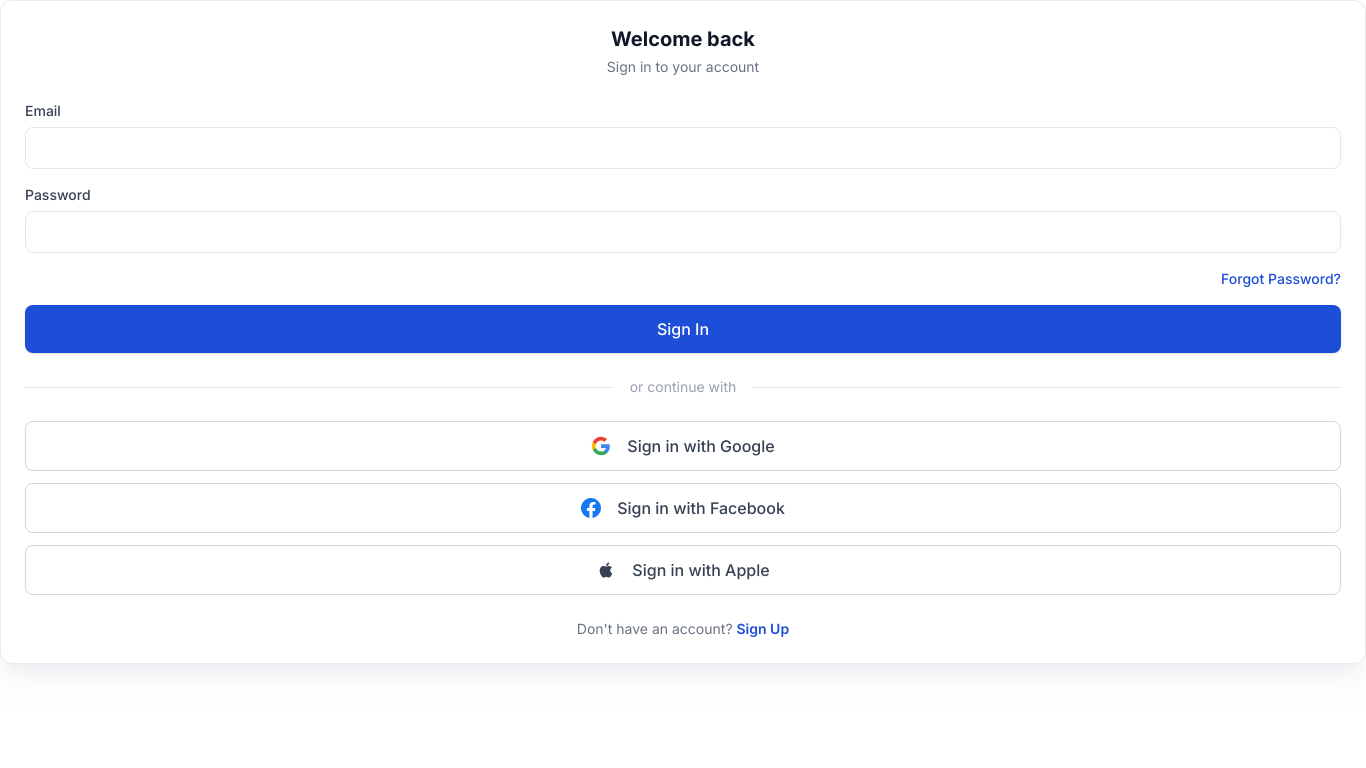
Scenario: LoginPage › shows generic error on failed sign in
In the field labelled "Email": (683, 148) [25,127,1341,169], type "test@example.com"
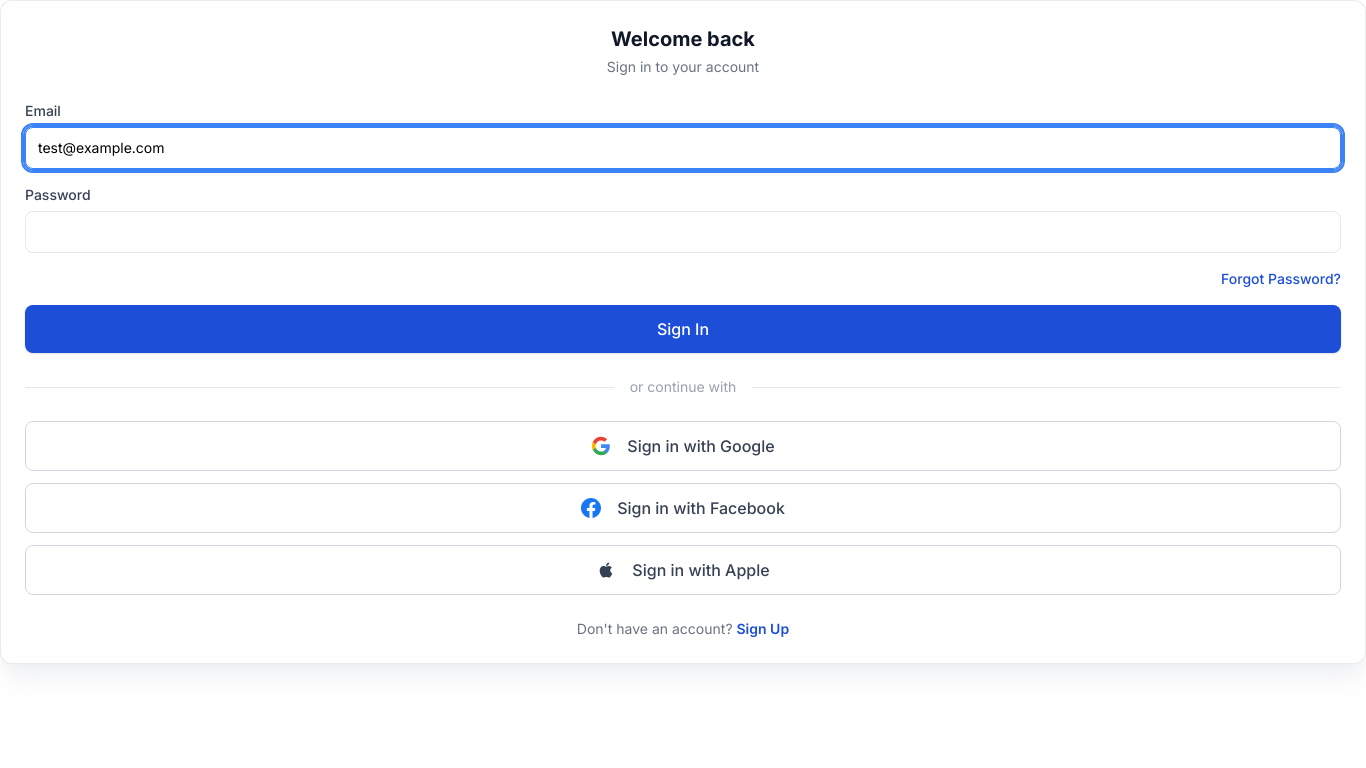
In the password field labelled "Password": (683, 232) [25,211,1341,253], type "wrong"
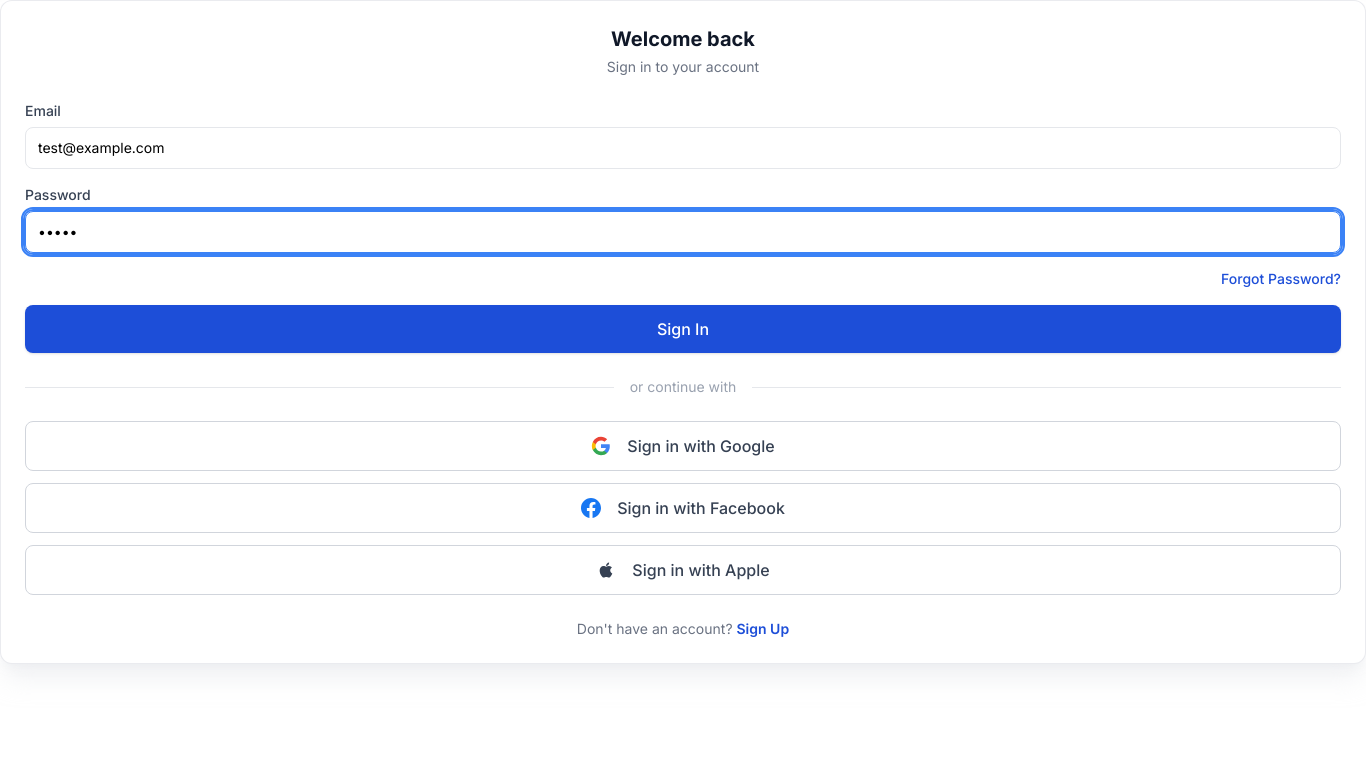
Click the button "Sign In": (683, 329) [25,305,1341,353]
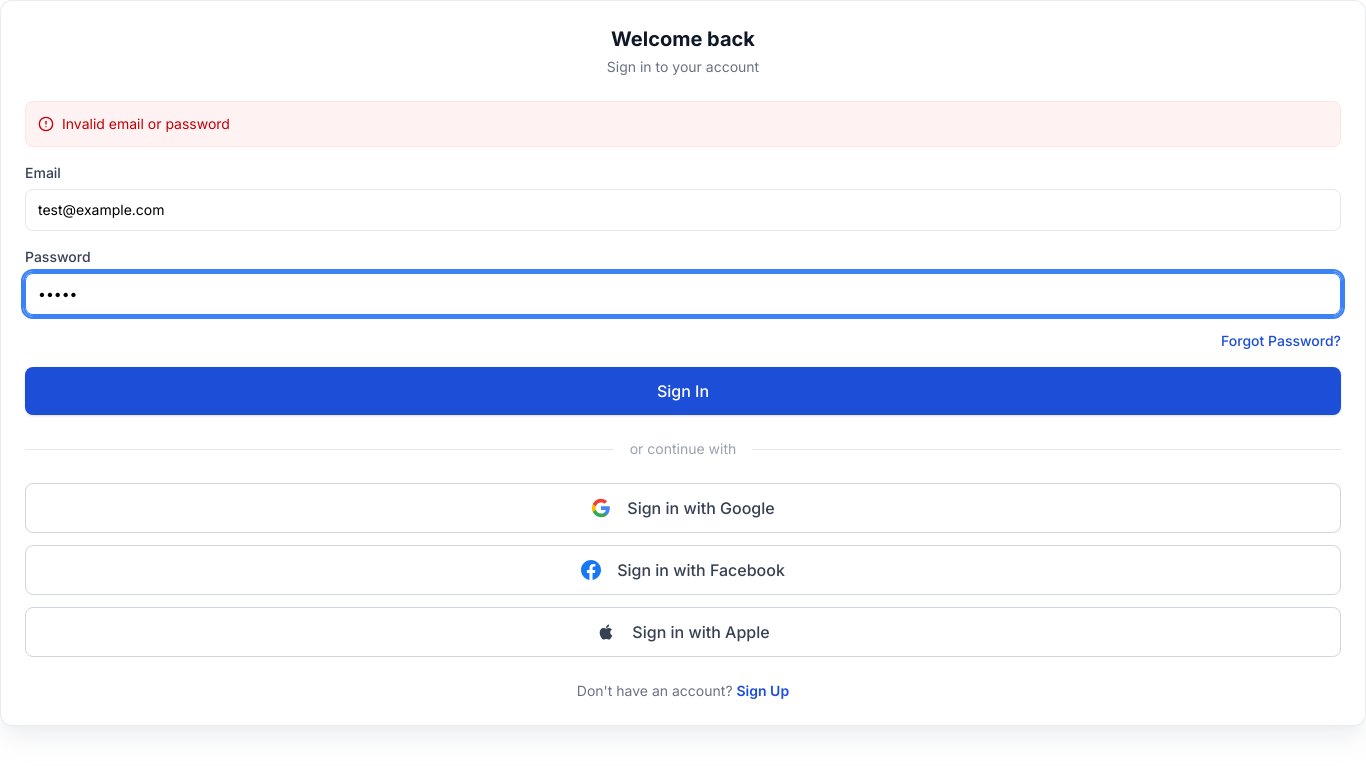
Check: the text "Invalid email or password" is shown, box [25,101,1341,147]
